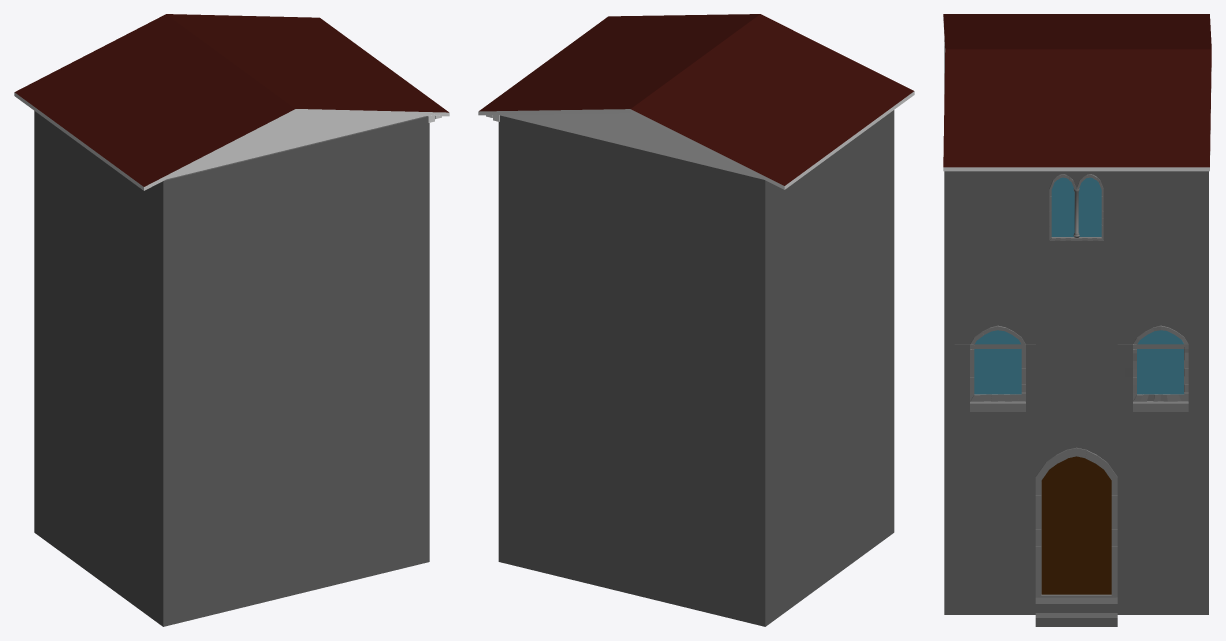
Rendered from Maison1.glb.
The picture shows the model from 3 angles, left to right: view 1: azimuth 30°, elevation 25°; view 2: azimuth 150°, elevation 25°; view 3: azimuth 270°, elevation 25°; orthographic projection. The views are drawn at different scales.
Visible parts, largest first — view 1: Maison; view 2: Maison; view 3: Maison, EmplacementPorte, EmpacementFenêtreCourb, EmpacementFenêtreCourb.001, EmplacementFenêtreDouble.
Part boxes in pixels (box(x1,y1,x2,y2)): Maison: box(14, 14, 449, 626); Maison: box(478, 14, 914, 626); Maison: box(943, 14, 1211, 614); EmplacementPorte: box(1013, 437, 1139, 626); EmpacementFenêtreCourb: box(1117, 318, 1198, 421); EmpacementFenêtreCourb.001: box(954, 318, 1035, 421); EmplacementFenêtreDouble: box(1036, 171, 1116, 267).
Bounding box in the file's own units: 5.82 × 8.71 × 4.25.
